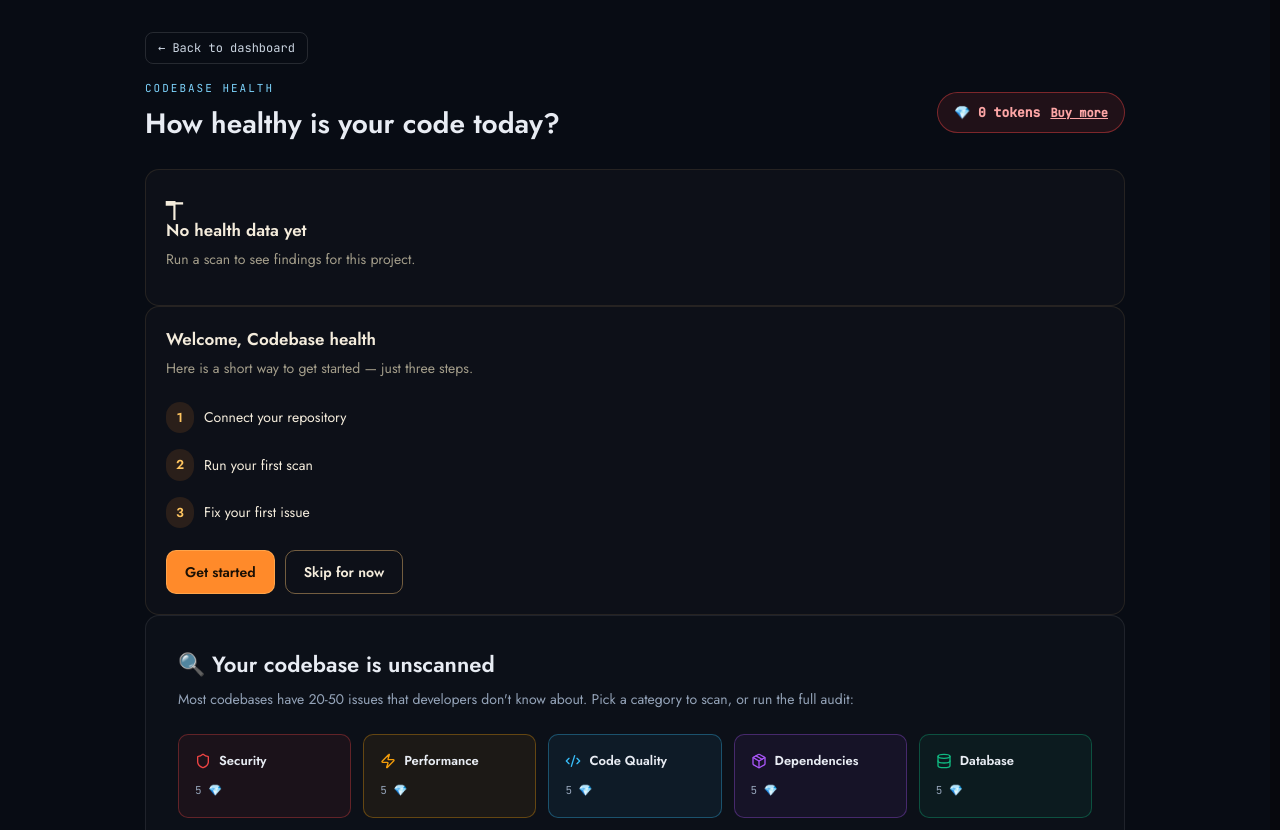
Test case: UI-fix C5 · real re-check after a fix, no more fake +2 › drops the fixed finding immediately (no +2 guess), then shows the real verified score once the re-check resolves
Later steps or results of the test are not shown.
Click the button with test id "scan-security".
click(265, 776)  # box [178,734,351,818]
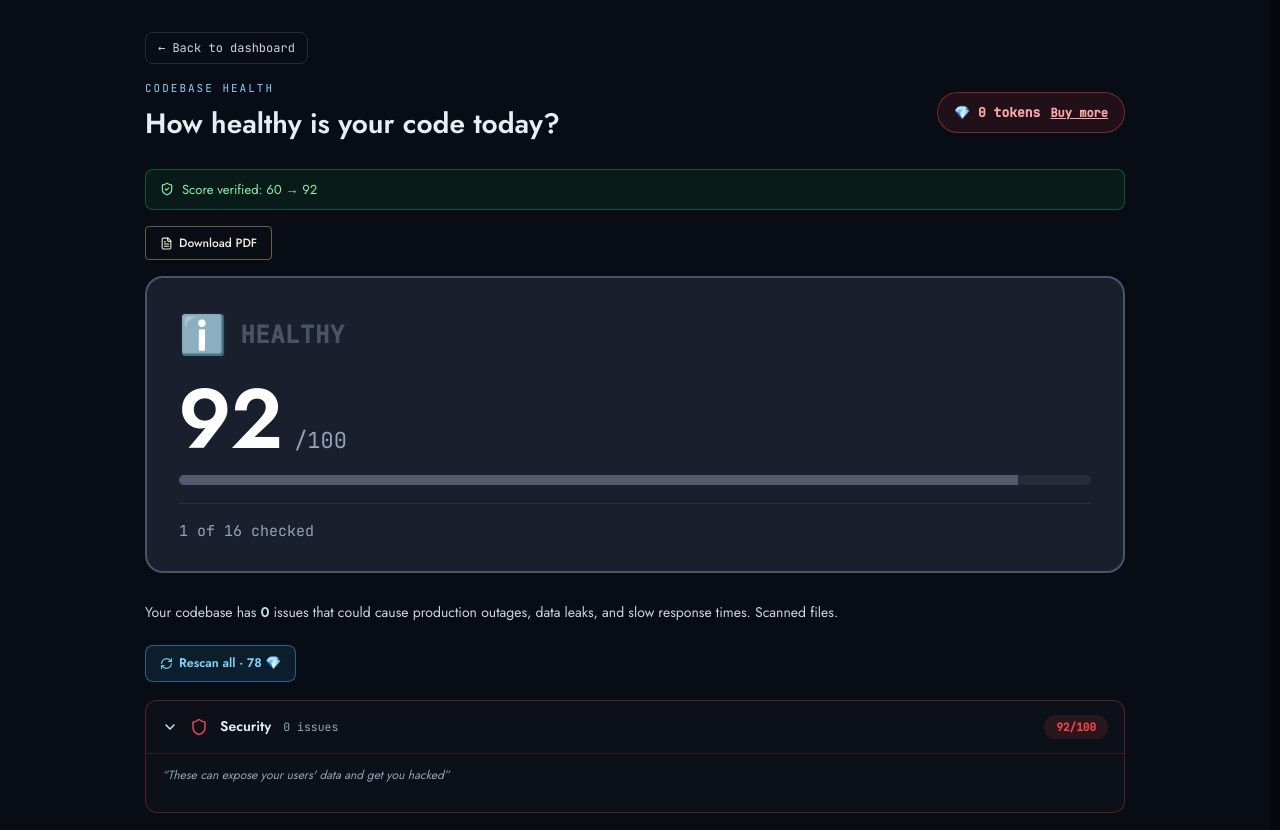
Now the element with test id "health-rescore-banner" reads "Score verified: 60 → 92", box [145,168,1125,210]
Now the text with test id "health-score-number" reads "92", box [179,358,282,480]
